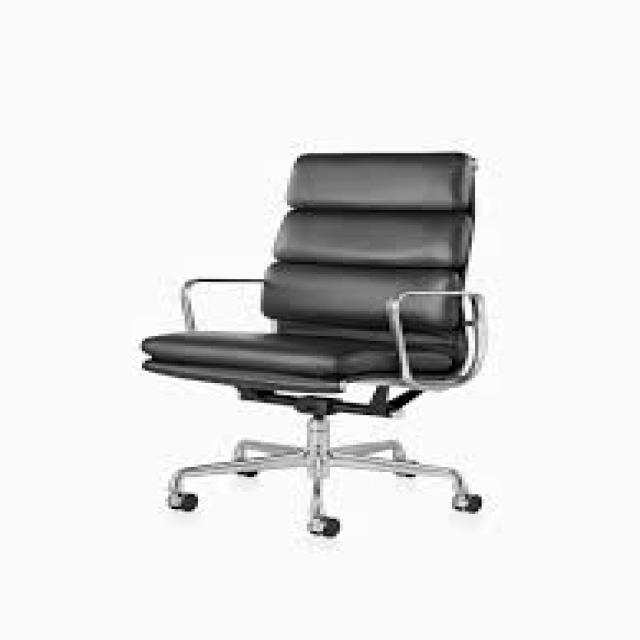chair: (92, 109, 588, 562)
